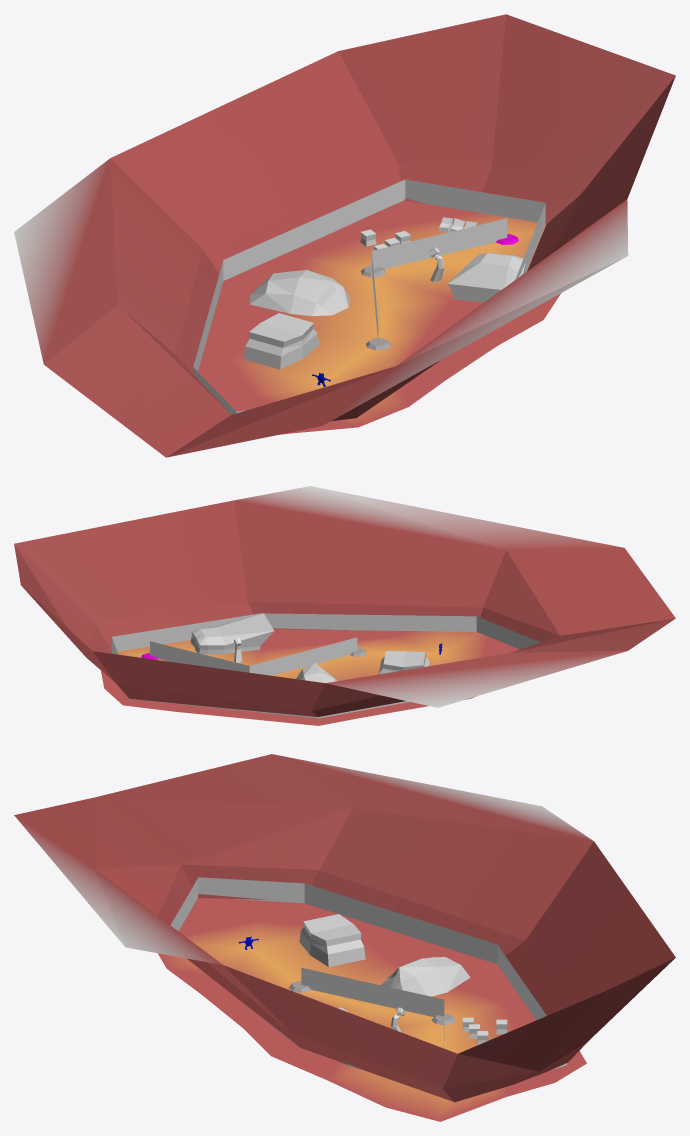
The model's file is BootCamp.fbx.
3 views of the same model, one above another, from view 1: azimuth 30°, elevation 25°; view 2: azimuth 150°, elevation 25°; view 3: azimuth 270°, elevation 25° (orthographic). The views are drawn at different scales.
Parts seen in each view (by area): view 1: GeometryWalls, GeometryGround, Boundary, Decor Rock003, Decor Rock002, Pathfinding, Decor Rock001; view 2: GeometryWalls, GeometryGround, Boundary, Pathfinding, Decor Rock001, Decor Rock002, Decor Rock003; view 3: GeometryWalls, GeometryGround, Boundary, Pathfinding, Decor Rock002, Decor Rock003.
Part boxes in pixels (x1=…): GeometryWalls: x1=14, y1=14, x2=675, y2=457; GeometryGround: x1=198, y1=201, x2=560, y2=434; Boundary: x1=193, y1=179, x2=545, y2=414; Decor Rock003: x1=249, y1=270, x2=350, y2=316; Decor Rock002: x1=244, y1=313, x2=319, y2=369; Pathfinding: x1=372, y1=218, x2=507, y2=339; Decor Rock001: x1=448, y1=252, x2=525, y2=302; GeometryWalls: x1=14, y1=486, x2=675, y2=716; GeometryGround: x1=101, y1=629, x2=519, y2=725; Boundary: x1=112, y1=613, x2=540, y2=718; Pathfinding: x1=150, y1=637, x2=357, y2=675; Decor Rock001: x1=190, y1=613, x2=274, y2=654; Decor Rock002: x1=379, y1=651, x2=430, y2=674; Decor Rock003: x1=296, y1=662, x2=337, y2=683; GeometryWalls: x1=14, y1=754, x2=675, y2=1102; GeometryGround: x1=158, y1=898, x2=586, y2=1121; Boundary: x1=170, y1=877, x2=567, y2=1101; Pathfinding: x1=301, y1=967, x2=444, y2=1048; Decor Rock002: x1=299, y1=914, x2=365, y2=966; Decor Rock003: x1=380, y1=957, x2=470, y2=996.
Size of the model in its own units: 14294 by 2621 by 11900.
